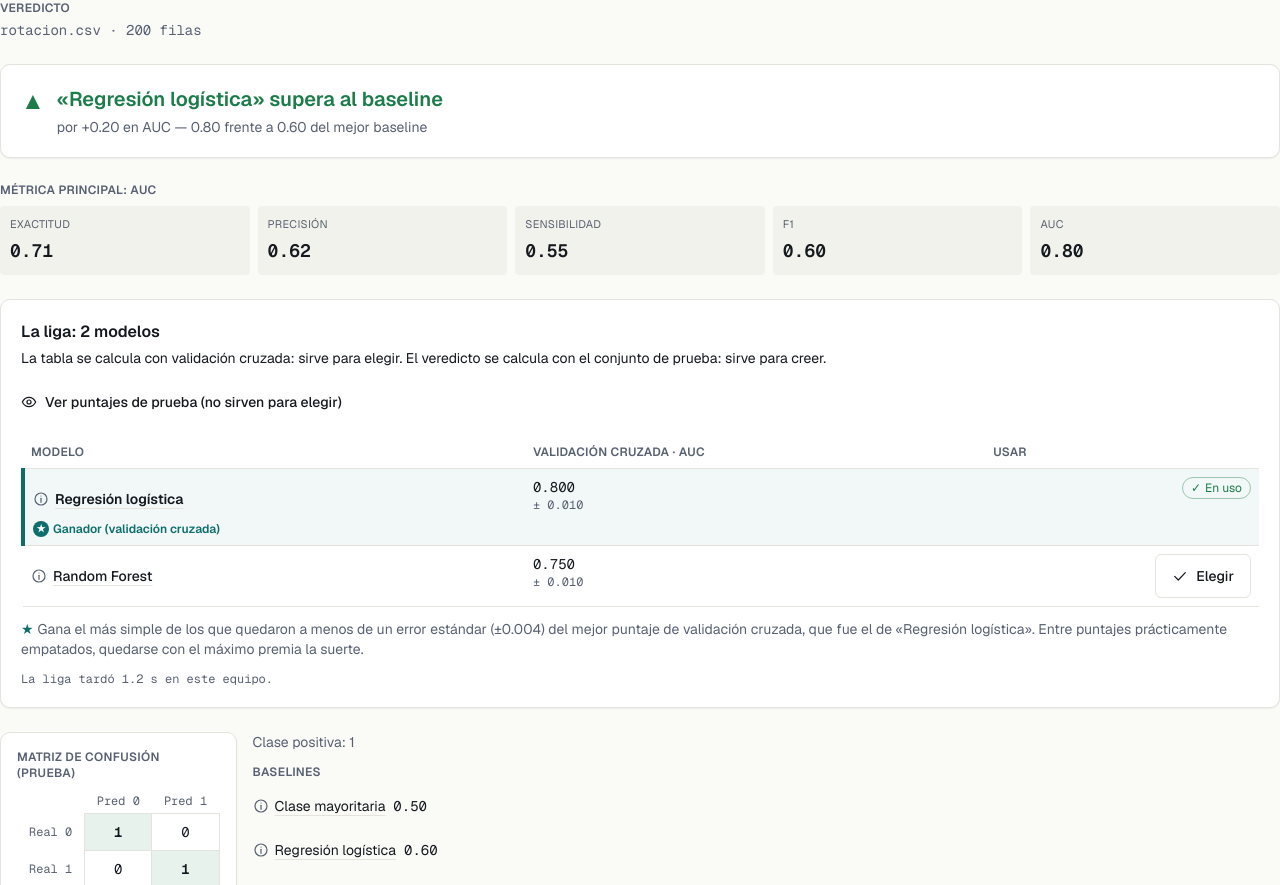
Test: ResultsScreen — los baselines también abren su ficha › clase mayoritaria: «no compite en la liga, la juzga»
Click the button with aria-label "Ficha de Clase mayoritaria": click(319, 806) 253,784 -> 385,828
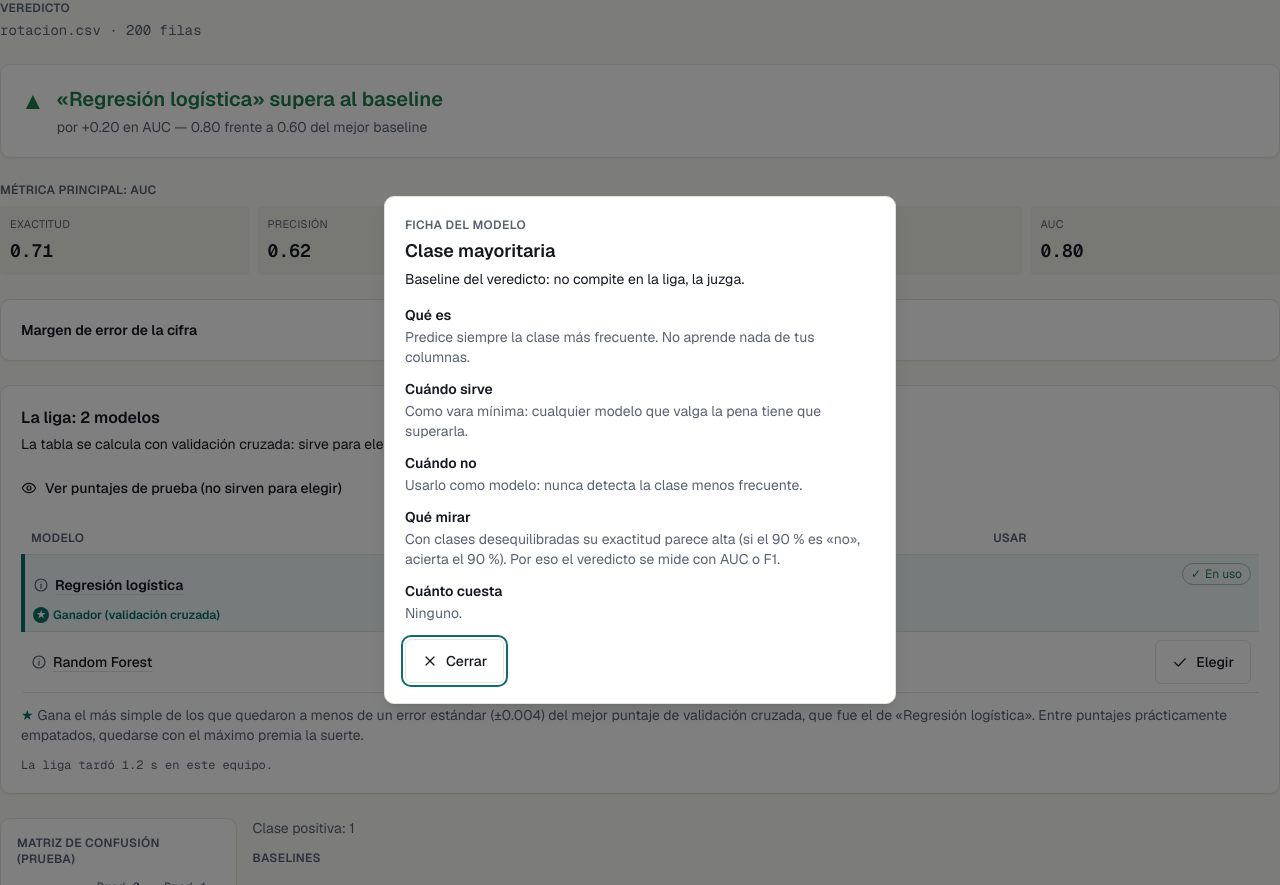
Now the text "Con clases desequilibradas su exactitud parece alta (si el 90 % es «no», acierta el 90 %). Por eso el veredicto se mide " is shown, box 405,530 -> 860,568
Now the text "Baseline del veredicto: no compite en la liga, la juzga." is shown, box 405,270 -> 744,288
